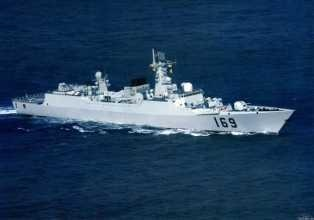warship: (10, 46, 299, 137)
